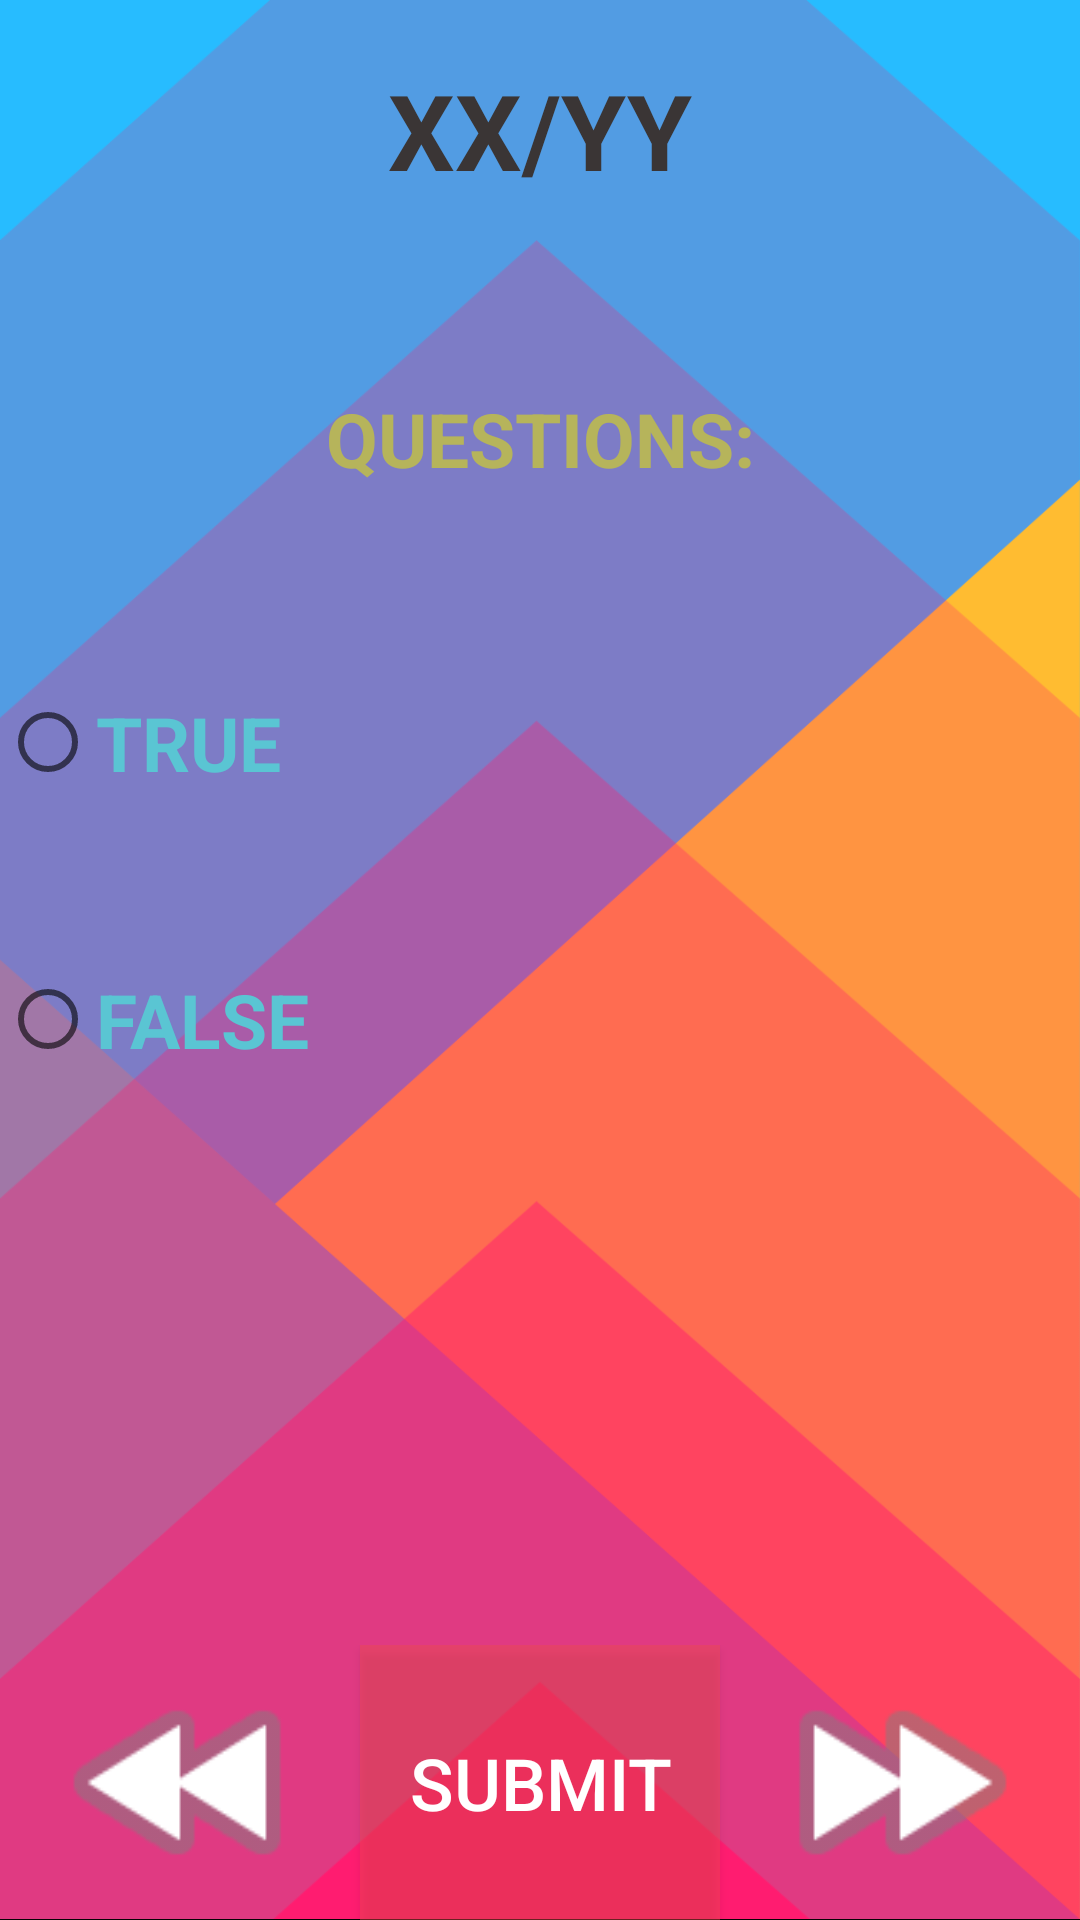

Named icons in this screenshot (1080x1920) and their centers, [x,y]:
rew: [180,1782]
